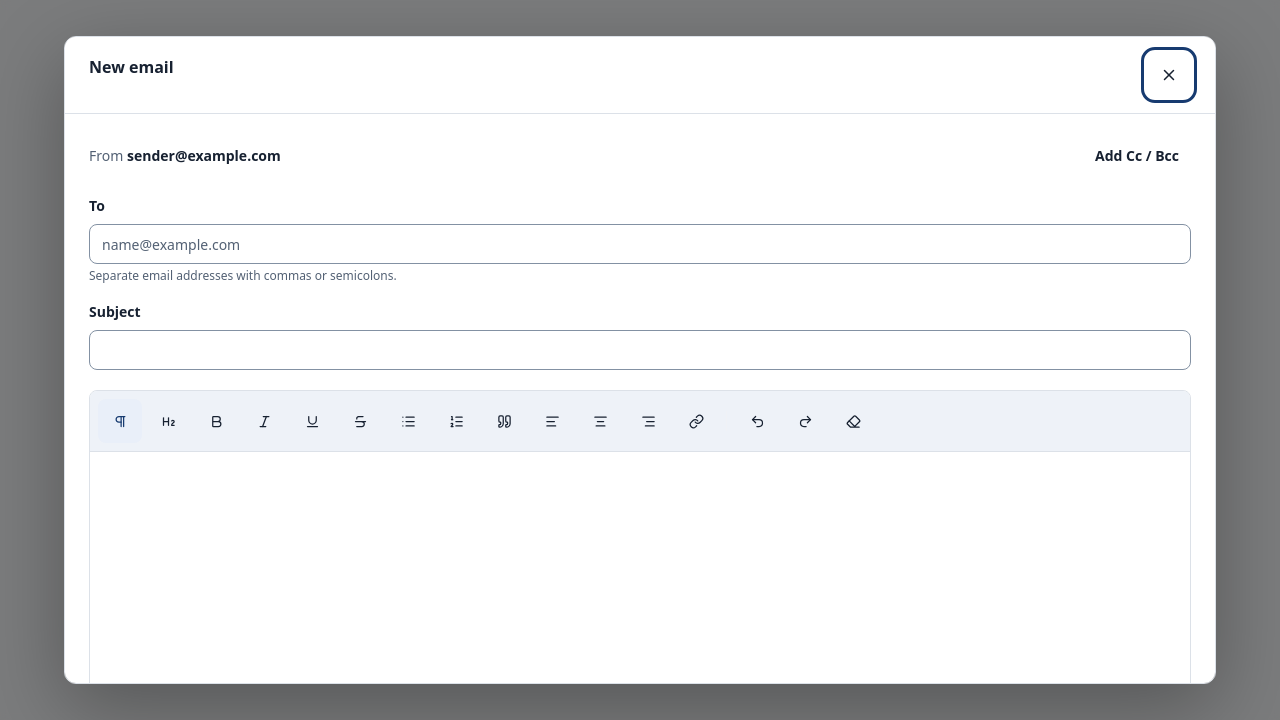
Scenario: mail editor and send safety › shows Cc and Bcc explanations
Click the button "Add Cc / Bcc" at (1137, 156), box x1=1083 y1=138 x2=1191 y2=174
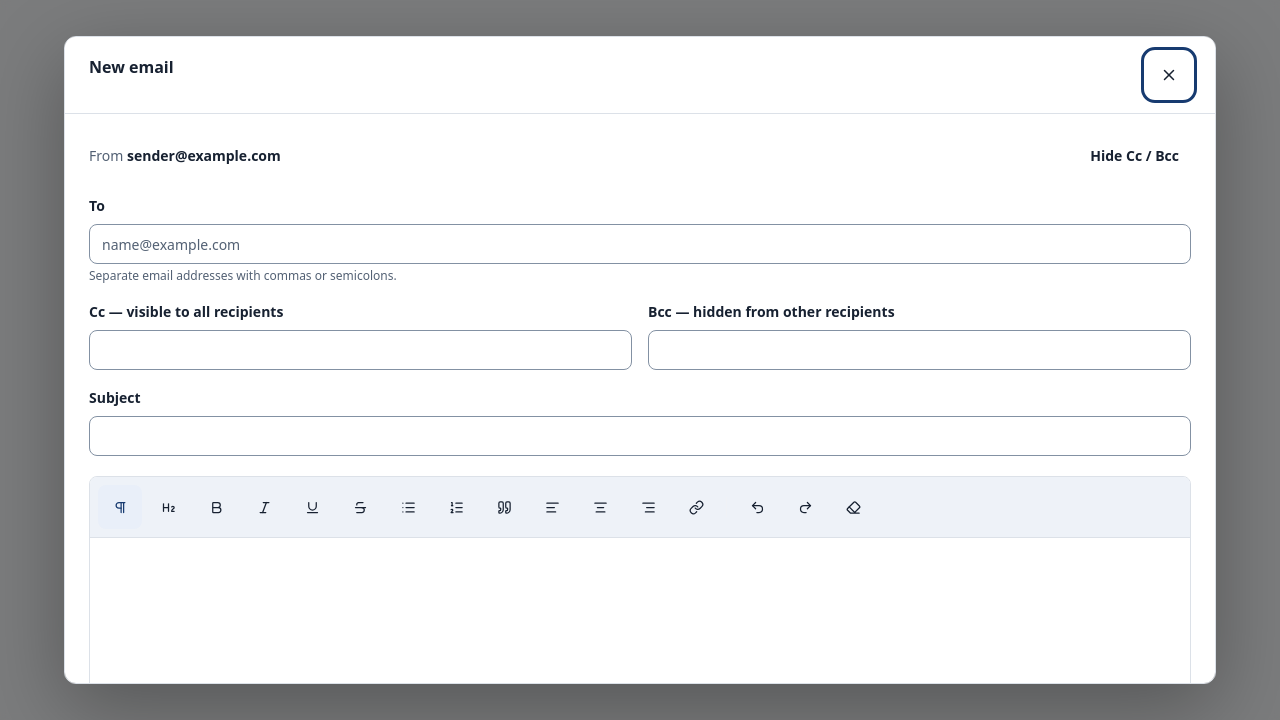
Result: the field labelled "Cc — visible to all recipients" is shown at x1=89 y1=330 x2=632 y2=370
Result: the field labelled "Bcc — hidden from other recipients" is shown at x1=648 y1=330 x2=1191 y2=370
